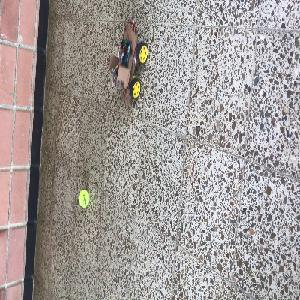Ball: (77, 190, 88, 208)
Robot: (108, 19, 148, 104)
